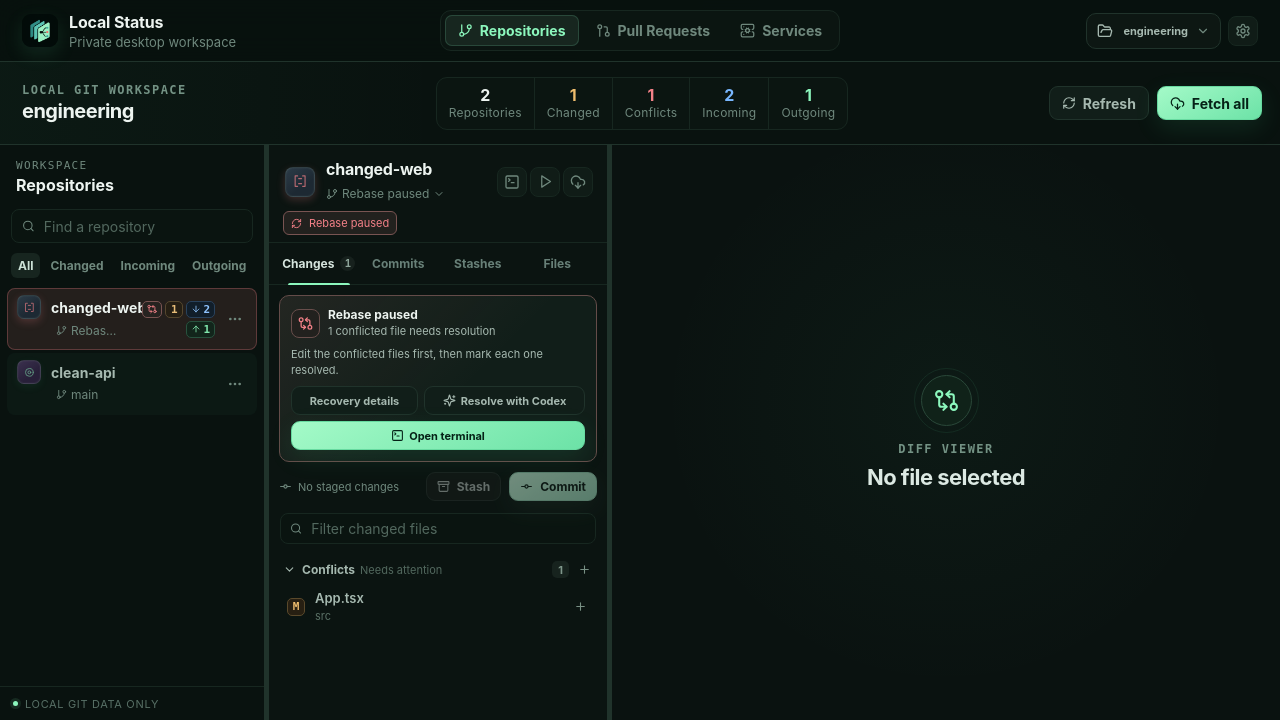
Local Status › keeps a paused operation recoverable after opening the conflict view
Check: the text "1 conflicted file needs resolution" is shown, box [328, 324, 496, 339]
Check: the button with aria-label "Resume rebase recovery: 1 conflicts" is shown, box [283, 211, 397, 235]
Click the button "Recovery details" at (354, 401), box [291, 386, 418, 415]
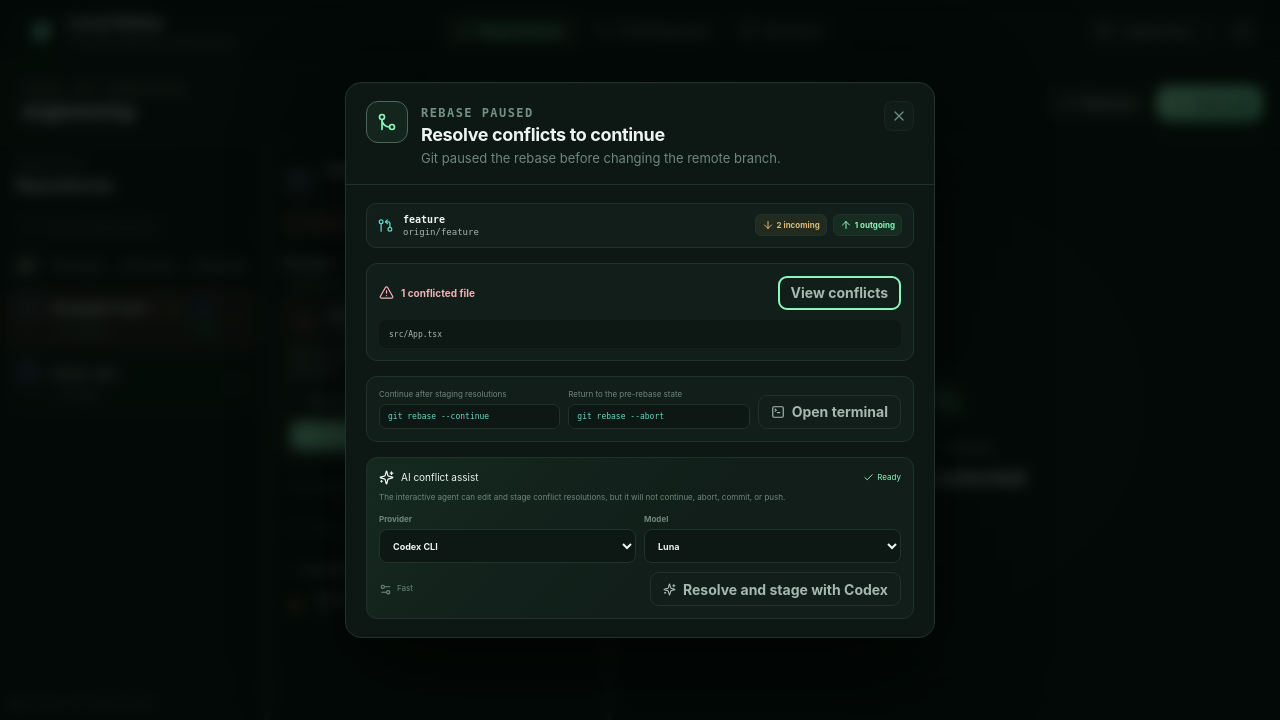
Click the button "View conflicts" at (839, 293), box [778, 276, 901, 310]
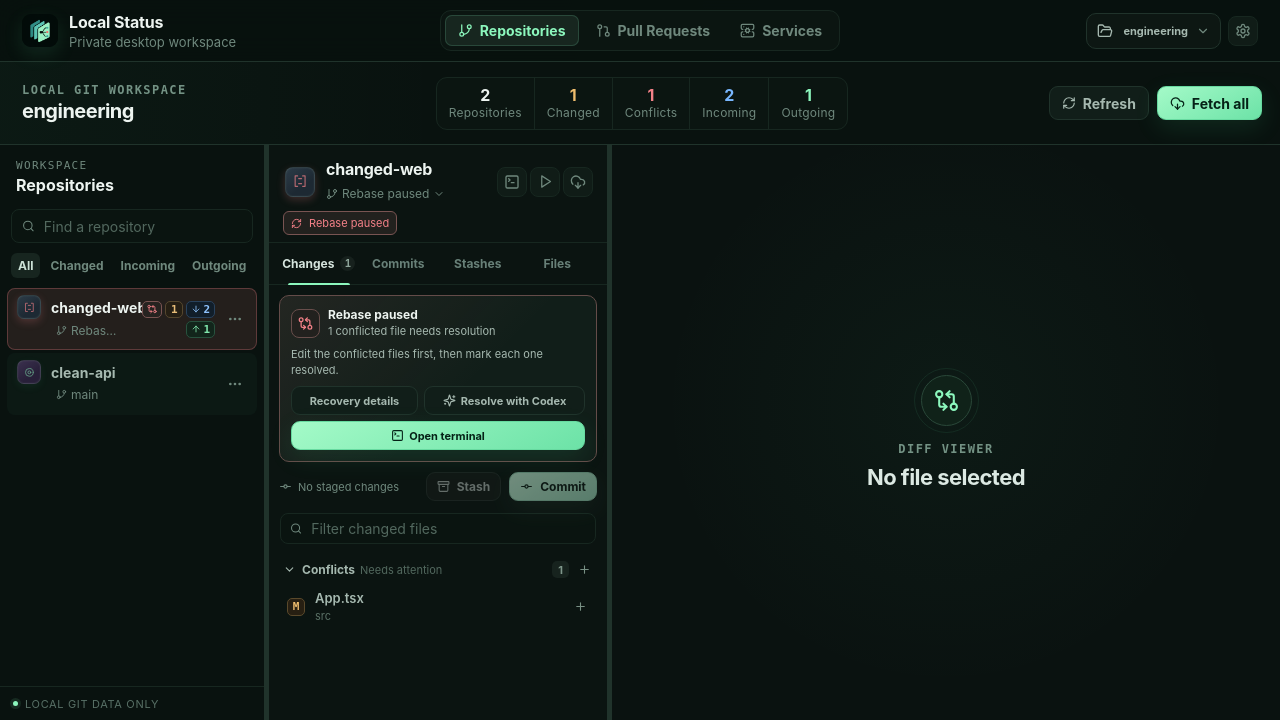
Check: the element named "Rebase recovery" is shown, box [279, 295, 597, 462]
Check: the button named "Mark resolved src/App.tsx" is shown, box [569, 595, 592, 618]
Click the button with aria-label "Resume rebase recovery: 1 conflicts" at (340, 223), box [283, 211, 397, 235]
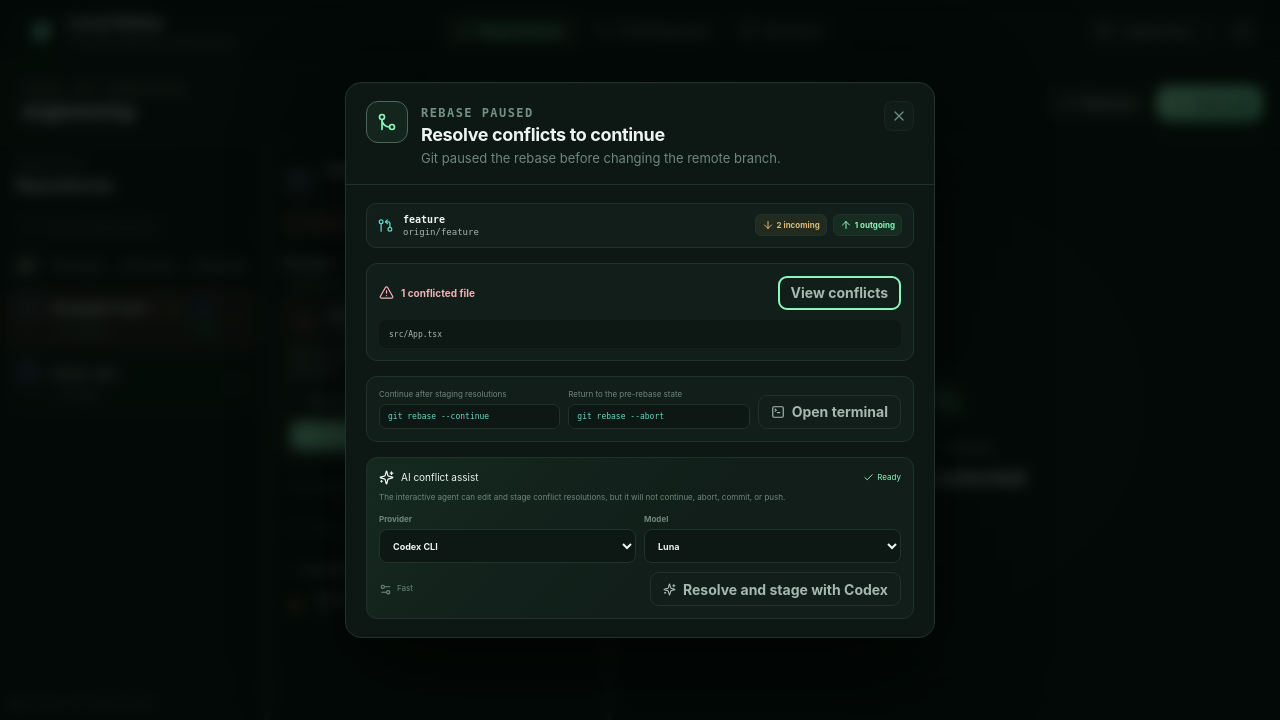
Check: the dialog "Resolve conflicts to continue" is shown, box [345, 82, 935, 638]
